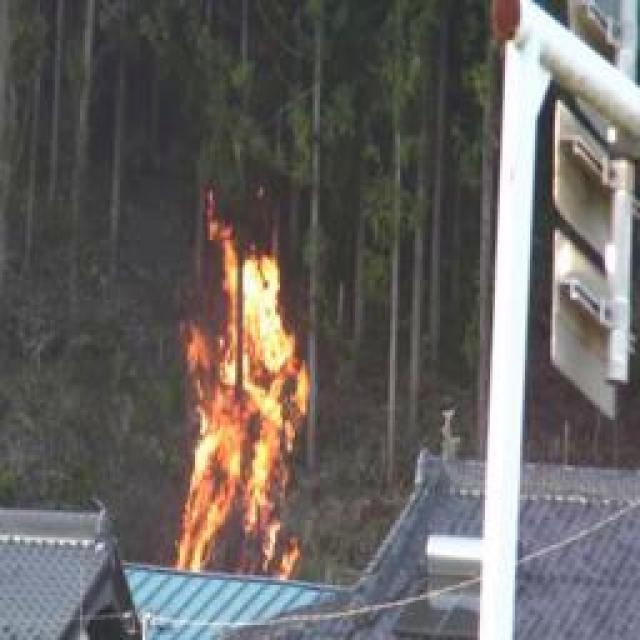Fire: (169, 209, 318, 582)
